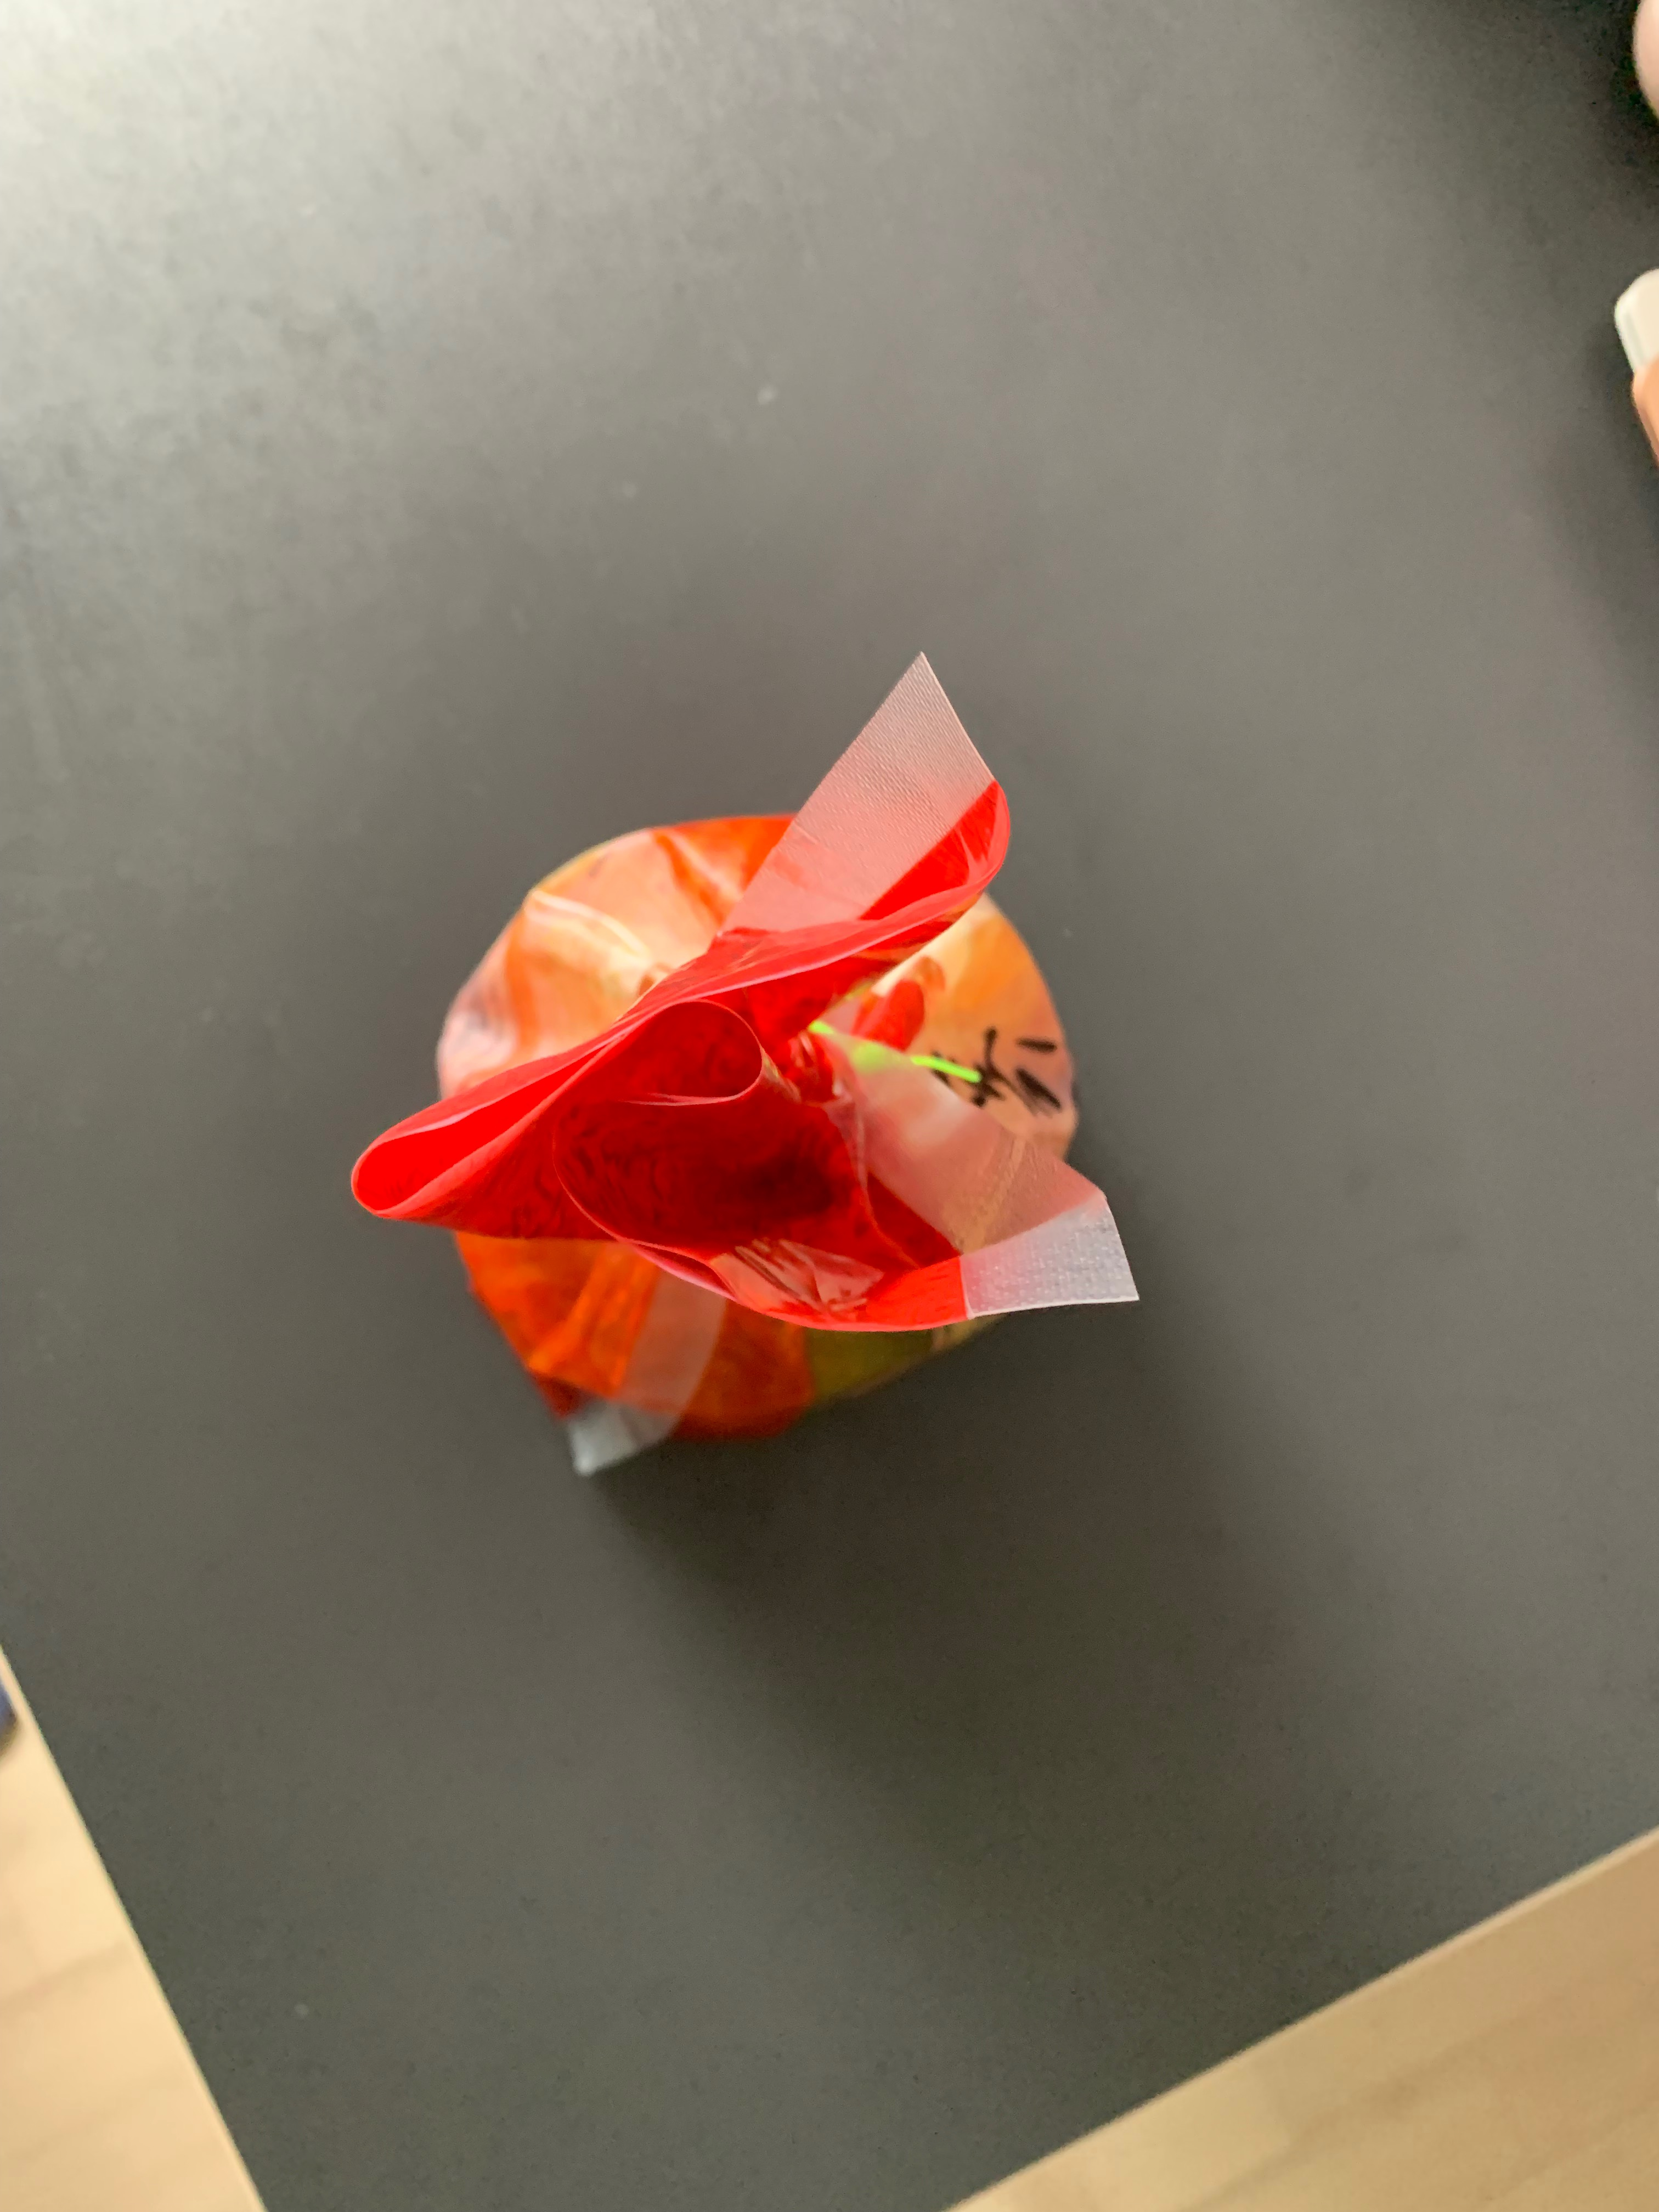kimchi: (343, 812, 1087, 1426)
